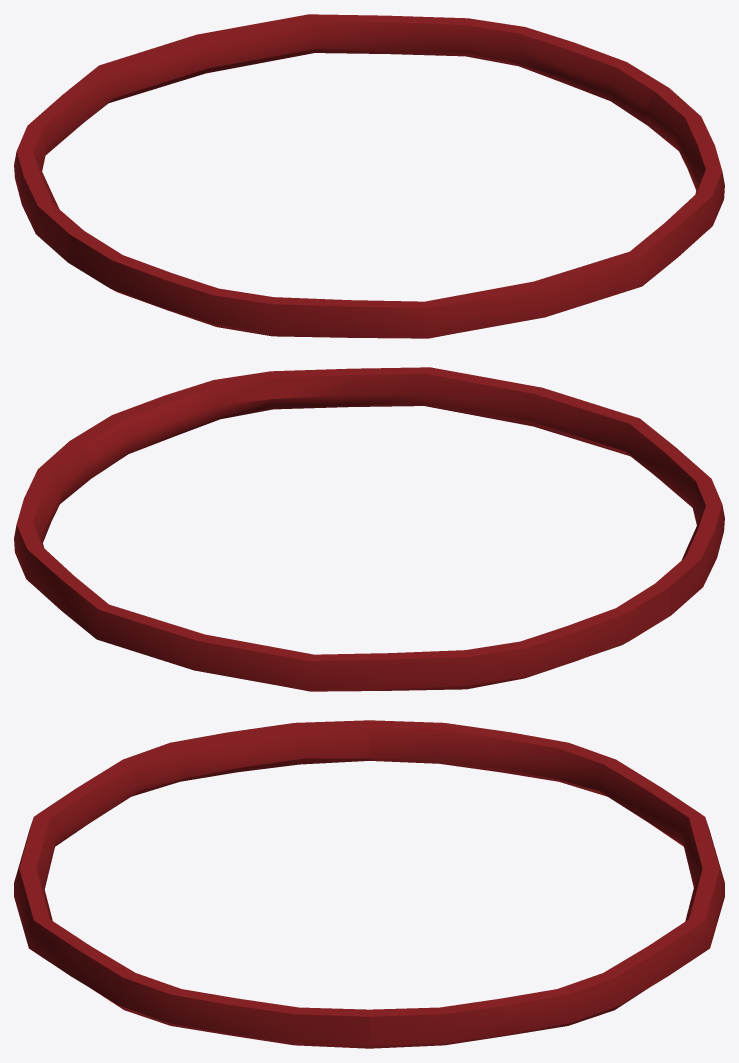
Rendered from vanne.fbx.
The picture shows the model from 3 angles, top to bottom: view 1: azimuth 30°, elevation 25°; view 2: azimuth 150°, elevation 25°; view 3: azimuth 270°, elevation 25°; orthographic projection.
Parts seen in each view (by area): view 1: Cube; view 2: Cube; view 3: Cube.
Part boxes in pixels (<box>): Cube: <box>14,14,724,338</box>; Cube: <box>14,367,724,691</box>; Cube: <box>14,720,724,1048</box>.
Size of the model in its own units: 115 by 6.28 by 115.
